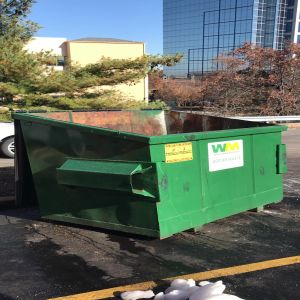Dumpster: (10, 106, 294, 240)
